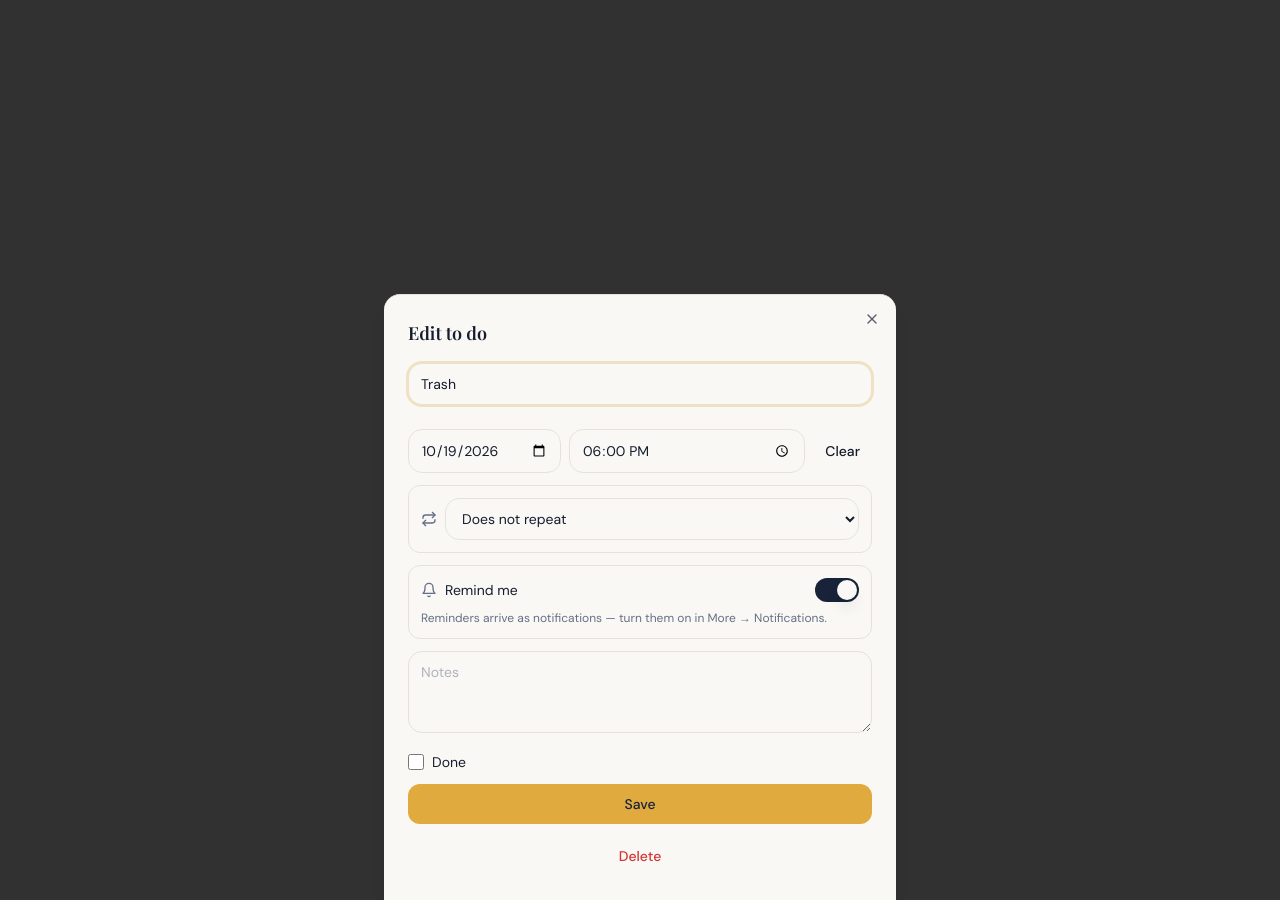
Test: personal due-time reminder › turns off the current user reminder when the time is cleared
Later steps or results of the test are not shown.
Clear the time field named "Due time". click: [687, 451]
box: [569,429,805,473]
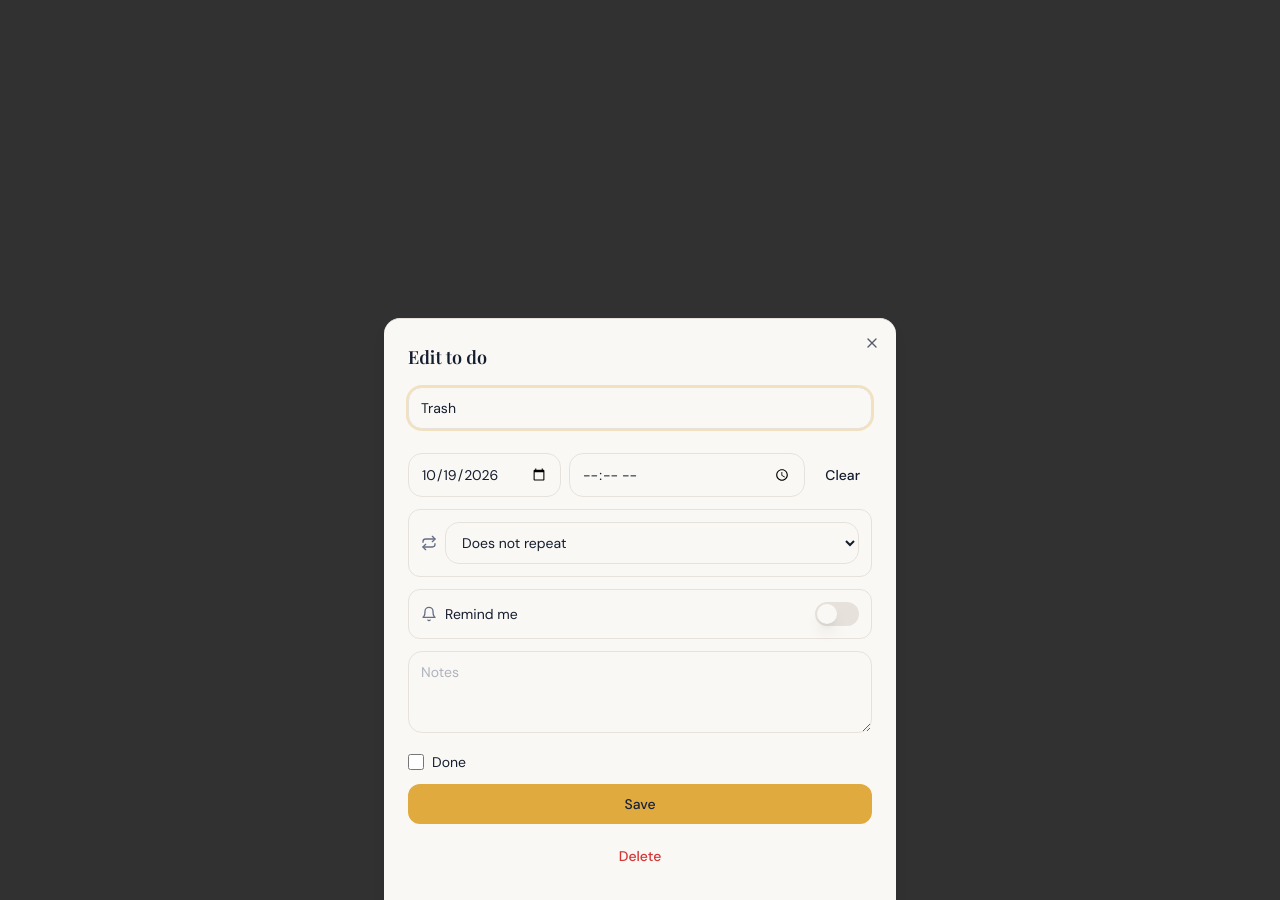
Check: the switch is not checked, box [815,602,859,626]
